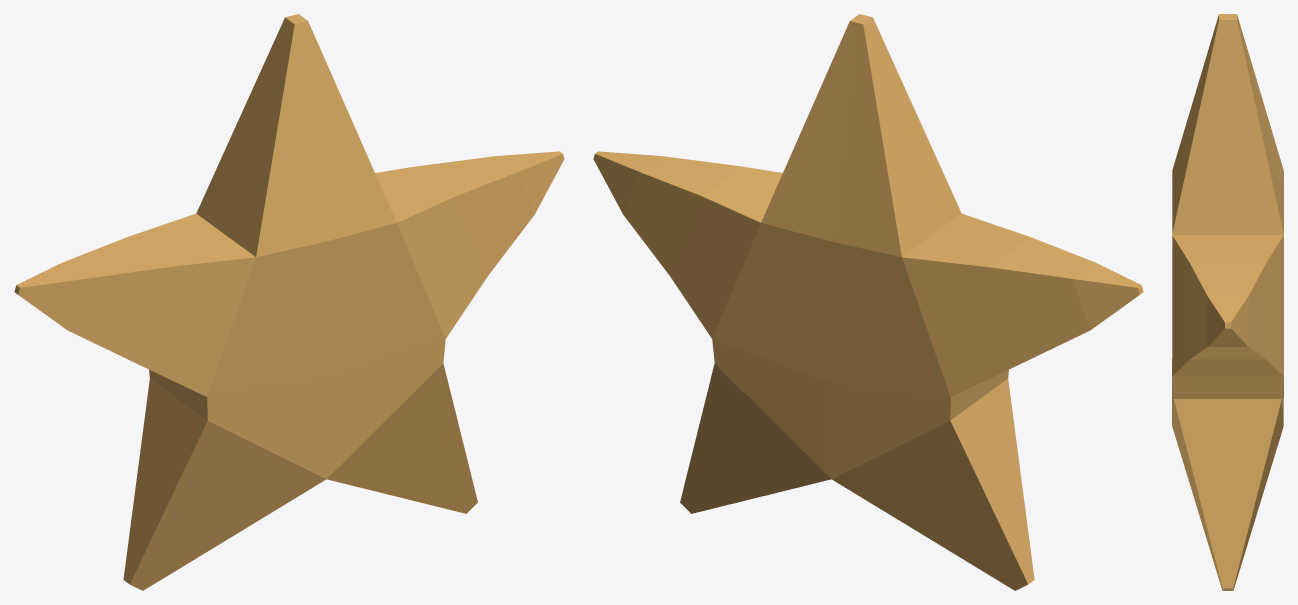
Rendered from STAR.glb.
3 views of the same model, side by side, from view 1: azimuth 30°, elevation 25°; view 2: azimuth 150°, elevation 25°; view 3: azimuth 270°, elevation 25° (orthographic). The views are drawn at different scales.
Visible parts, largest first — view 1: Cube.002; view 2: Cube.002; view 3: Cube.002.
Boxes of the visible parts, x1,y1,x2,y2 form: Cube.002: [14, 14, 564, 590]; Cube.002: [593, 14, 1143, 590]; Cube.002: [1172, 14, 1283, 590].
Bounding box in the file's own units: 0.7454 × 0.6949 × 0.1413.
